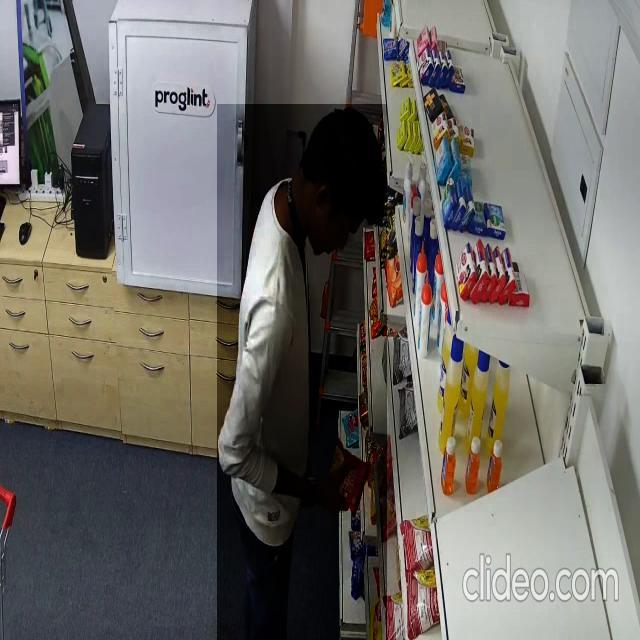normal: (217, 104, 387, 640)
